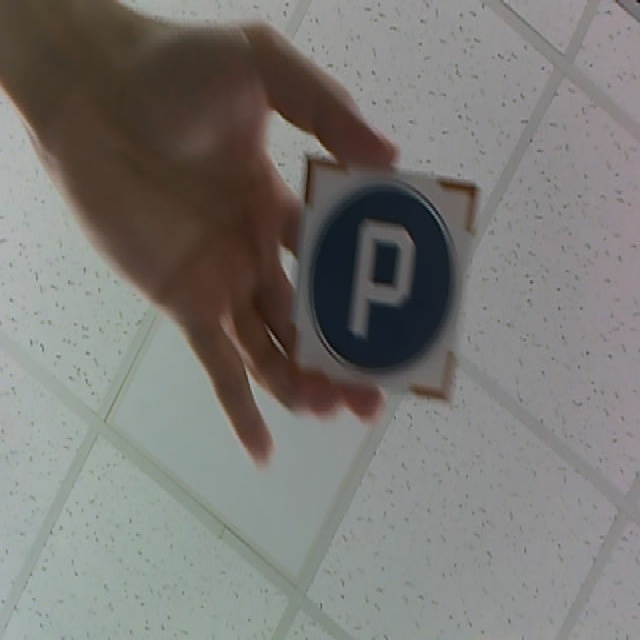parking: (286, 153, 479, 408)
